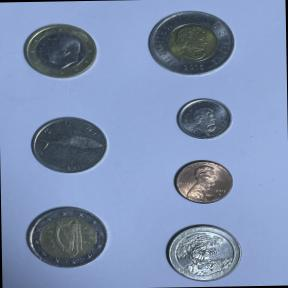1 Euro-B: (20, 20, 100, 84)
2 Euro-B: (22, 205, 111, 274)
Canada-10cent-B: (174, 96, 235, 143)
Canada-2Dollar-B: (144, 6, 238, 78)
Croatia-2Kune-B: (27, 112, 113, 180)
US-1cent-B: (171, 156, 235, 207)
US-25cent-B: (162, 222, 244, 284)
